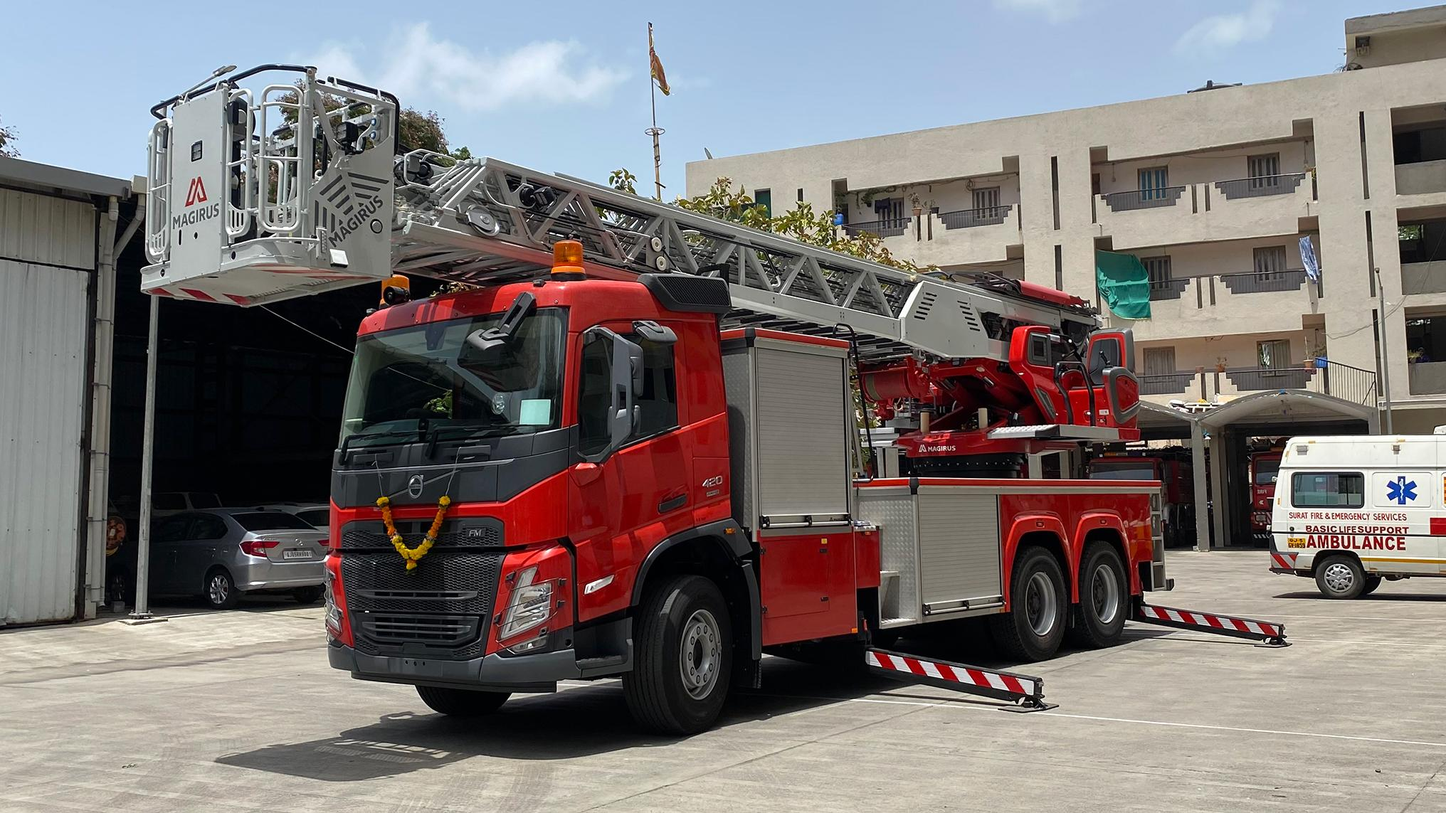Fire-engine: (134, 98, 1194, 718)
